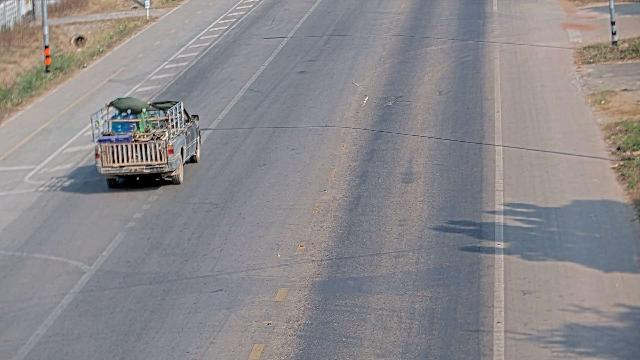pickup-truck: (89, 96, 202, 188)
